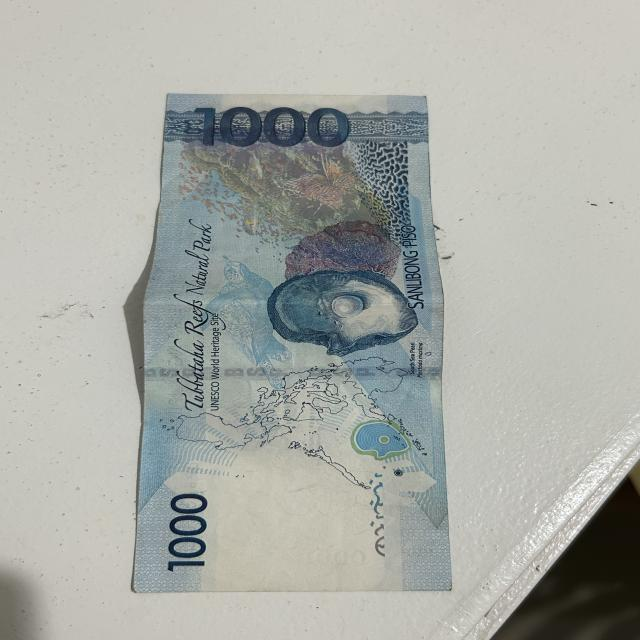1000_pearl: (279, 274, 415, 341)
1000_pearl_watermark: (354, 425, 412, 458)
value_watermark: (277, 530, 369, 576)
watermark: (216, 466, 377, 580)
